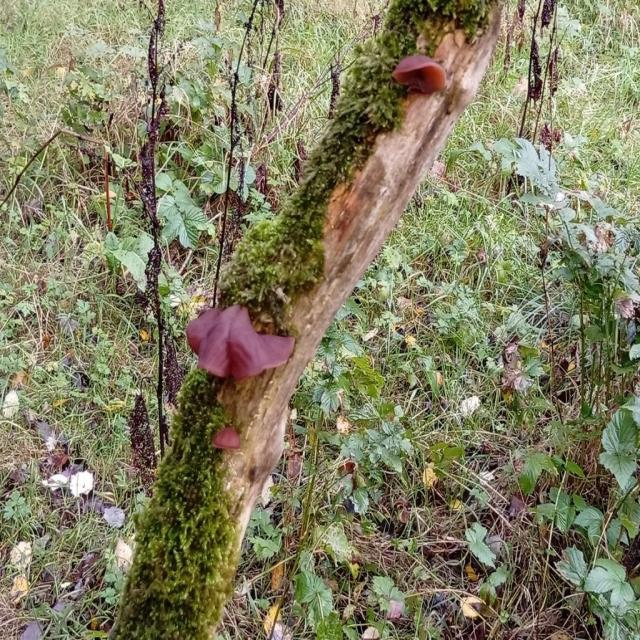Matang: (186, 304, 298, 386), (388, 48, 450, 100)
